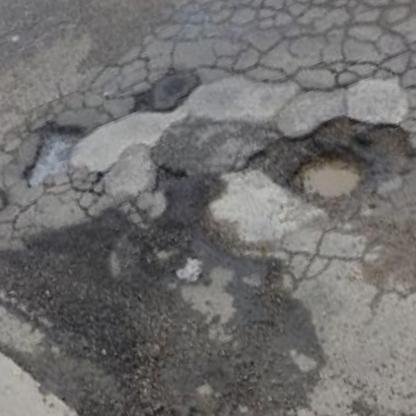pothole: (260, 89, 416, 229), (7, 109, 95, 191), (129, 212, 206, 293), (145, 158, 191, 198)
